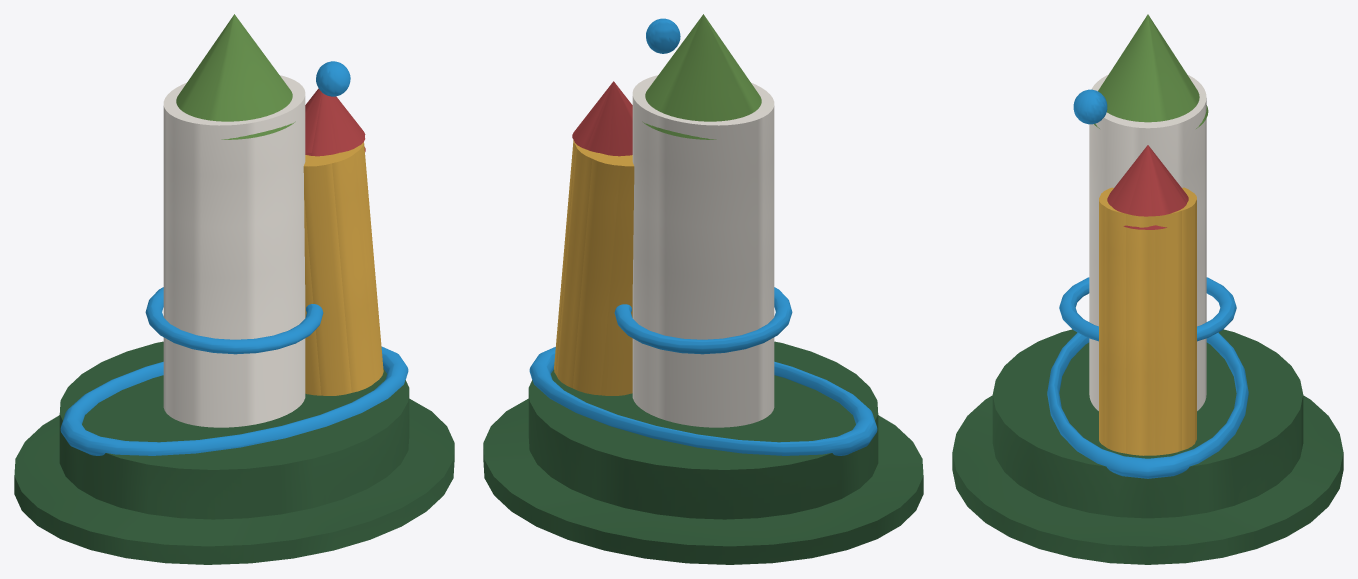
File: 0551_岩石矿物图鉴_变石.glb
3 renders of one model, left to right at view 1: azimuth 30°, elevation 25°; view 2: azimuth 150°, elevation 25°; view 3: azimuth 270°, elevation 25°, orthographic.
Parts seen in each view (by area): view 1: card_0551; view 2: card_0551; view 3: card_0551.
Boxes of the visible parts, bbox=[...] form: card_0551: bbox=[14, 14, 454, 564]; card_0551: bbox=[483, 14, 923, 564]; card_0551: bbox=[952, 14, 1343, 564].
Size of the model in its own units: 0.8891 by 1 by 0.7766.
